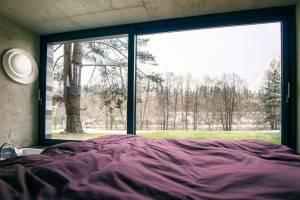window: (43, 20, 284, 155)
